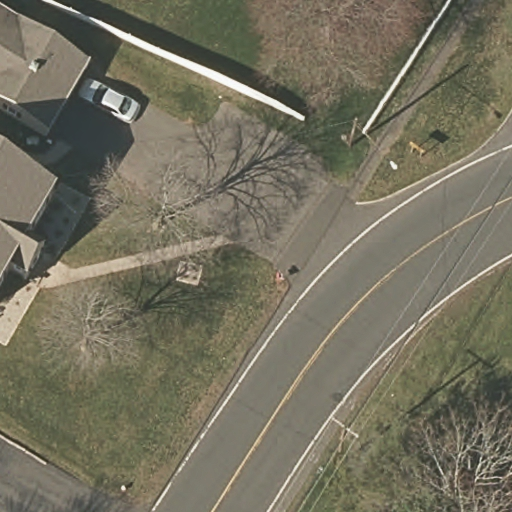DT: (321, 406, 365, 475)
